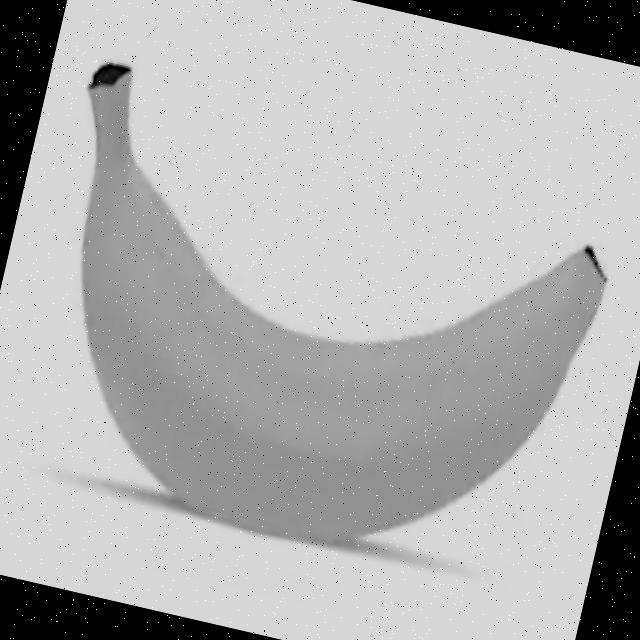banana: (0, 54, 631, 593)
